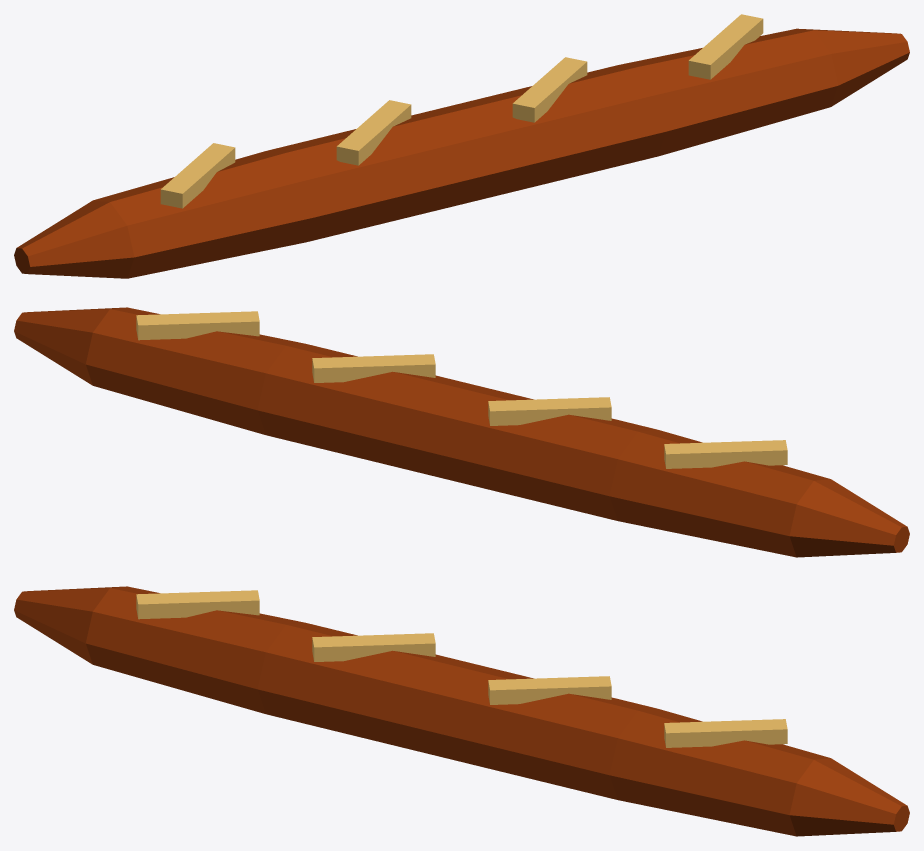
The model's file is baguette.obj.
3 views of the same model, one above another, from view 1: azimuth 30°, elevation 25°; view 2: azimuth 150°, elevation 25°; view 3: azimuth 330°, elevation 25° (orthographic).
Parts seen in each view (by area): view 1: baguette; view 2: baguette; view 3: baguette.
Boxes of the visible parts, x1,y1,x2,y2 form: baguette: (14,14,909,278); baguette: (14,307,909,557); baguette: (14,586,909,836).
Bounding box in the file's own units: 0.5 × 0.0508 × 0.056.
